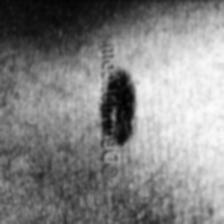Potentially Malignant Skin Tumors: (118, 72, 140, 152)
